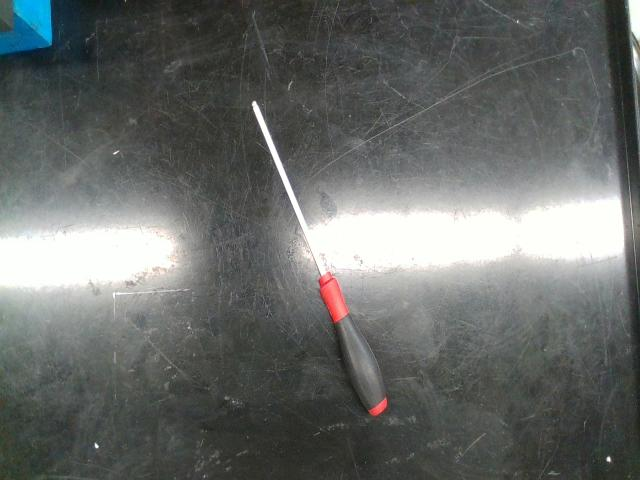Screwdriver: (251, 102, 388, 417)
